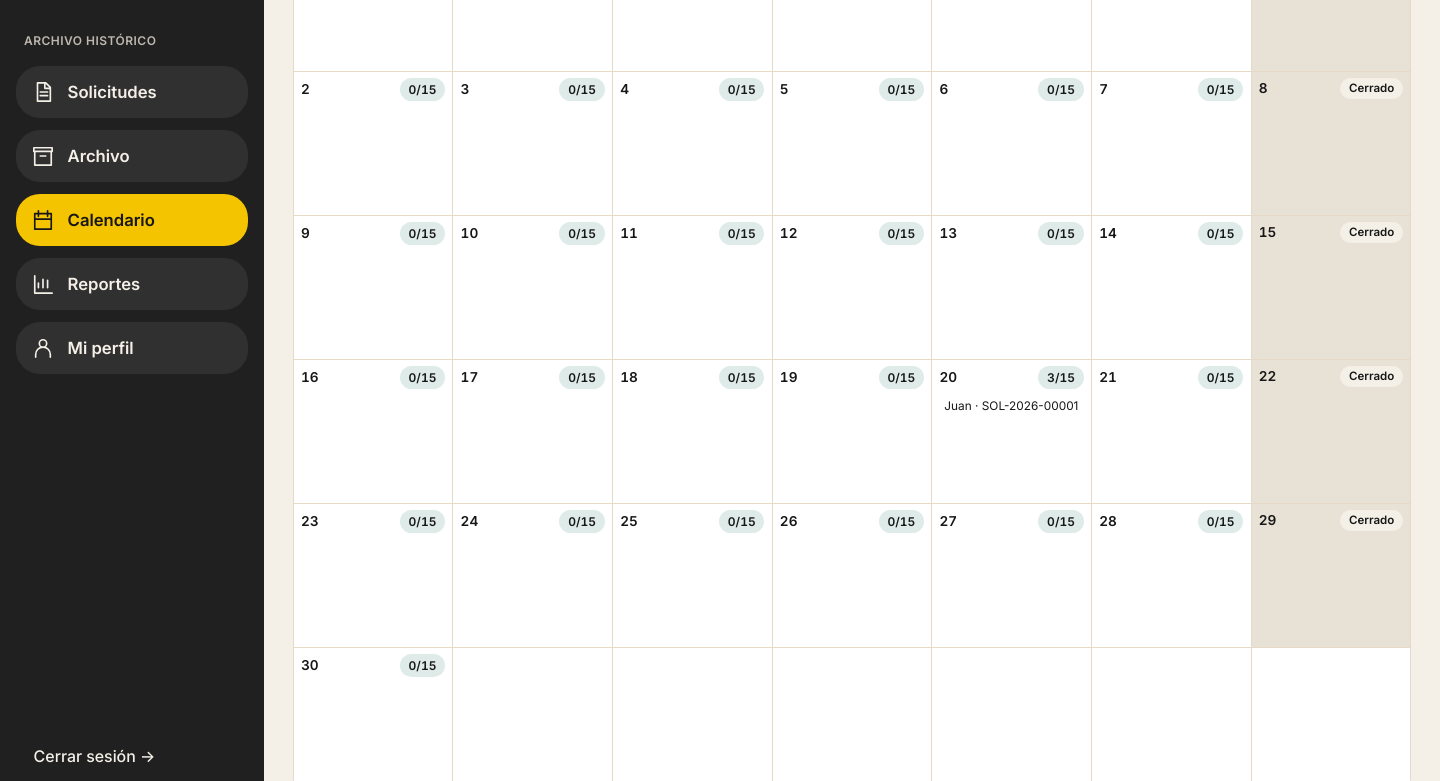
Test: AppointmentsCalendarPage › lets staff cancel a selected appointment from the calendar and updates its status (HU-21)
This screenshot has width=1440, height=781.
(page scrolled)
Click the button with aria-label "acta de fundación de la villa". click: (1012,406)
box: [940,394,1084,418]
(page scrolled)
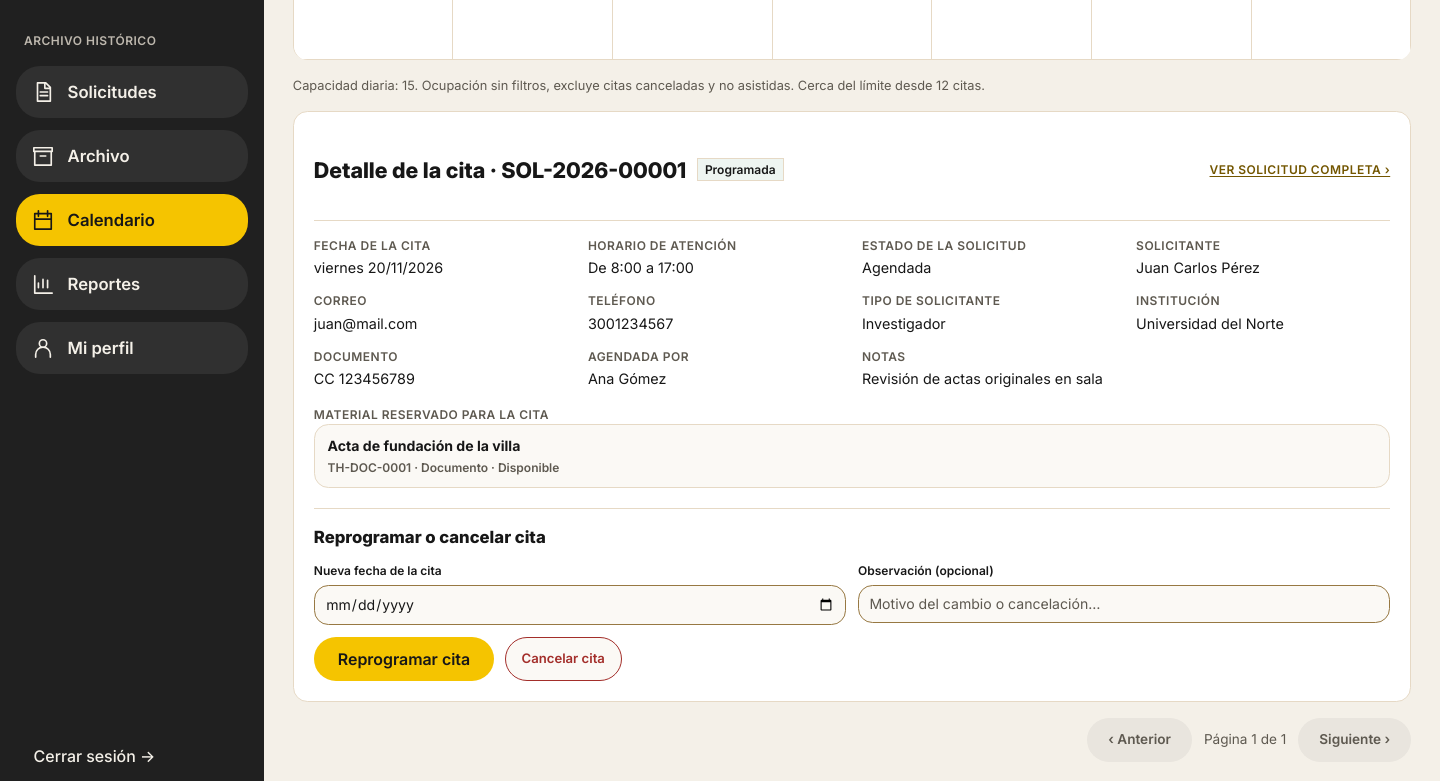
Click the button "Cancelar cita". click: (563,659)
box: [504,637,622,681]
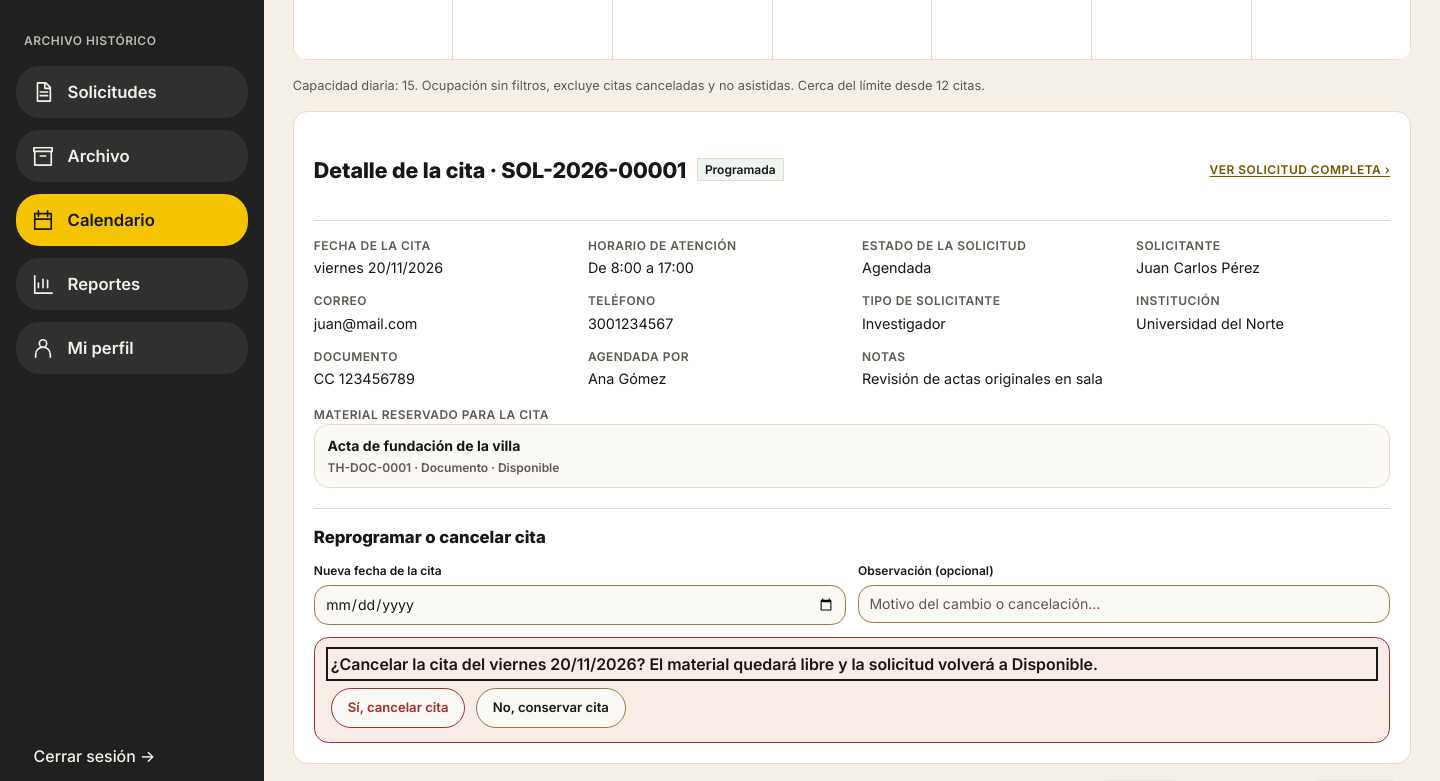
Click the button "Sí, cancelar cita". click: (398,708)
box: [331,688,465,728]
(page scrolled)
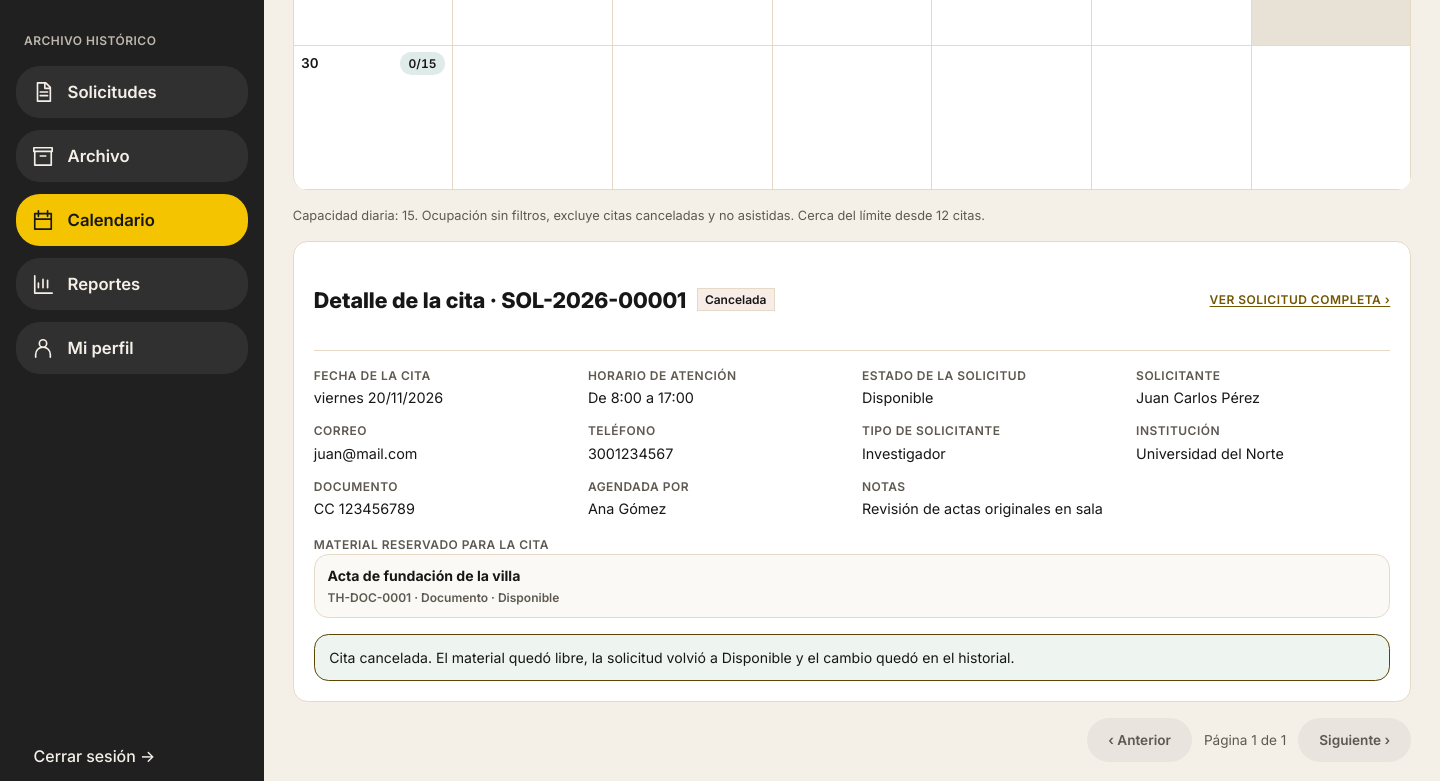
Result: the message shows "Cita cancelada. El material quedó libre, la solicitud volvió a Disponible" at [329,649,1015,666]
Result: the text "Cancelada" is shown at [697,288,775,311]
Result: the text "Disponible" is shown at [862,389,934,406]
